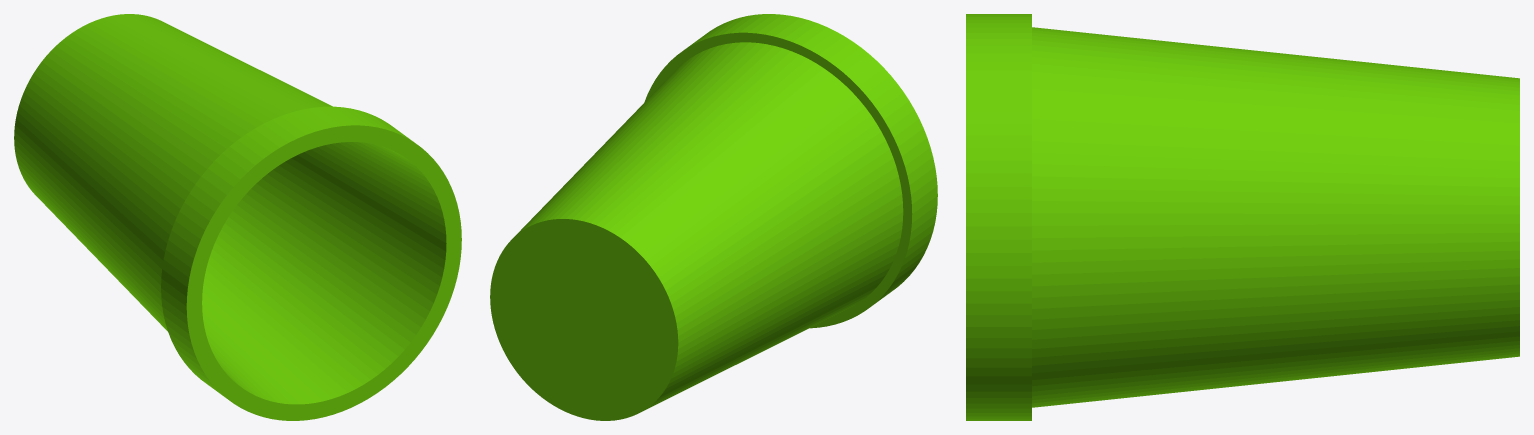
Rendered from cup_green.obj.
3 views of the same model, side by side, from view 1: azimuth 30°, elevation 25°; view 2: azimuth 150°, elevation 25°; view 3: azimuth 270°, elevation 25° (orthographic). The views are drawn at different scales.
Parts seen in each view (by area): view 1: cup_green; view 2: cup_green; view 3: cup_green.
Boxes of the visible parts, x1=… form: cup_green: x1=14, y1=14, x2=461, y2=420; cup_green: x1=490, y1=14, x2=937, y2=420; cup_green: x1=966, y1=14, x2=1519, y2=420.
Bounding box in the file's own units: 0.068 × 0.068 × 0.0925.
